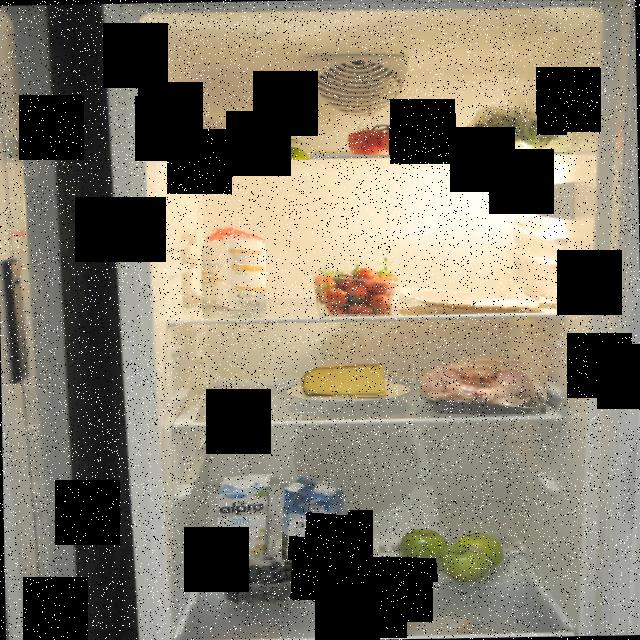apple: (397, 522, 510, 582)
blueberries: (224, 560, 302, 600)
cheese: (300, 362, 388, 400)
chicken: (416, 354, 548, 414)
green_beans: (447, 101, 567, 152)
ham: (408, 285, 540, 312)
lime: (196, 132, 310, 160)
milk: (282, 477, 350, 584), (215, 474, 281, 573)
strawberries: (308, 252, 400, 314)
sugar: (201, 220, 266, 311)
tomato: (344, 111, 450, 155)
